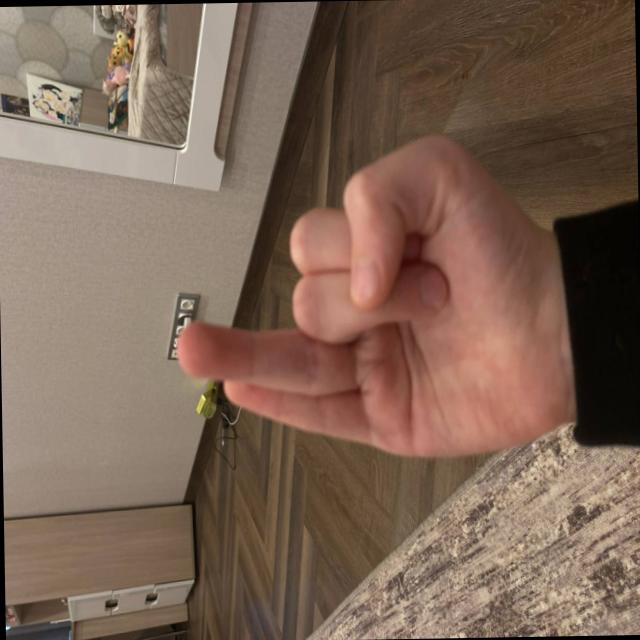i: (120, 146, 522, 490)
